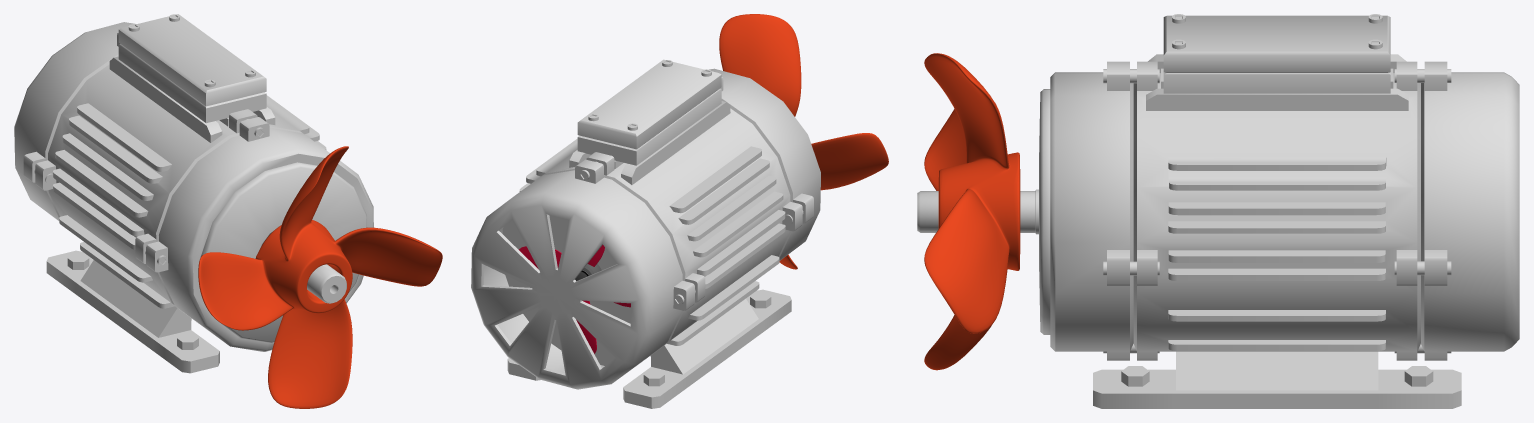
File: motor_org.fbx
The picture shows the model from 3 angles, left to right: view 1: azimuth 30°, elevation 25°; view 2: azimuth 150°, elevation 25°; view 3: azimuth 270°, elevation 25°; orthographic projection. The views are drawn at different scales.
Parts seen in each view (by area): view 1: Cylinder, prop poly; view 2: Cylinder, prop poly, Propeller; view 3: Cylinder, prop poly.
Part boxes in pixels (left/top/right/bottom): Cylinder: left=14, top=14, right=373, bottom=373; prop poly: left=198, top=146, right=442, bottom=408; Cylinder: left=471, top=59, right=820, bottom=408; prop poly: left=719, top=14, right=888, bottom=269; Propeller: left=519, top=245, right=630, bottom=353; Cylinder: left=917, top=14, right=1519, bottom=408; prop poly: left=924, top=53, right=1020, bottom=370.
Bounding box in the file's own units: 612 × 647 × 1031.
